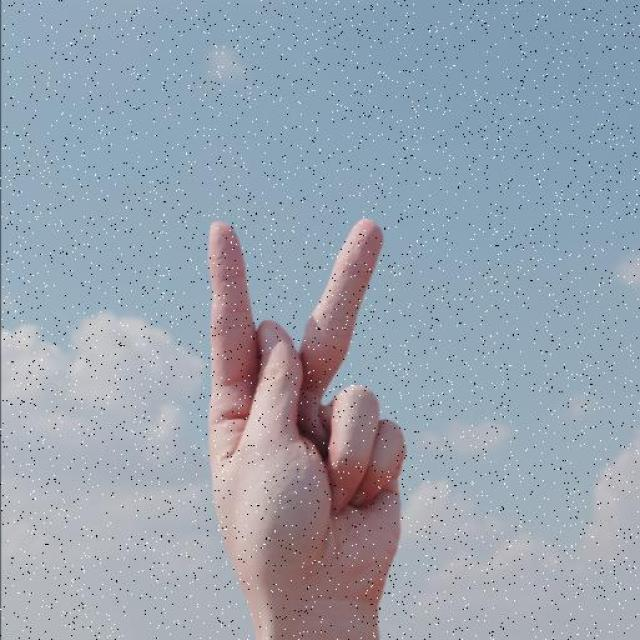K: (169, 180, 439, 640)
